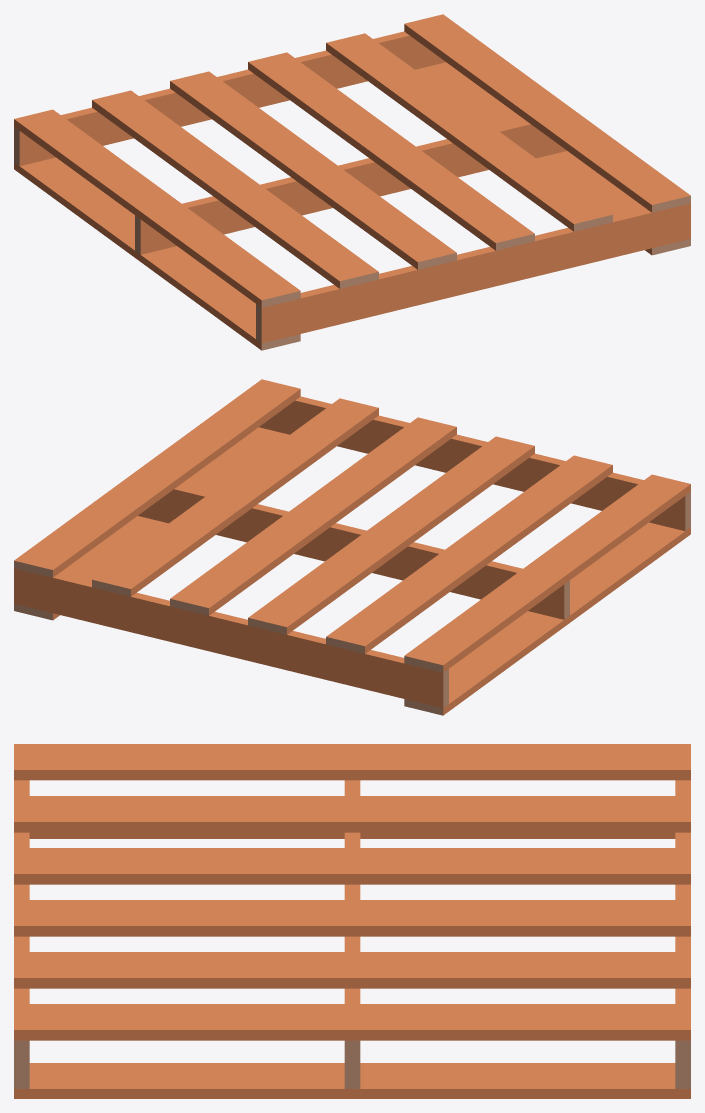
File: Pallet.fbx
The picture shows the model from 3 angles, top to bottom: view 1: azimuth 30°, elevation 25°; view 2: azimuth 150°, elevation 25°; view 3: azimuth 270°, elevation 25°; orthographic projection. The views are drawn at different scales.
Visible parts, largest first — view 1: Cube; view 2: Cube; view 3: Cube.
Boxes of the visible parts, left/top/right/bottom form: Cube: left=14, top=14, right=690, bottom=350; Cube: left=14, top=379, right=690, bottom=715; Cube: left=14, top=744, right=690, bottom=1098.
Bounding box in the file's own units: 100 × 11.21 × 100.
